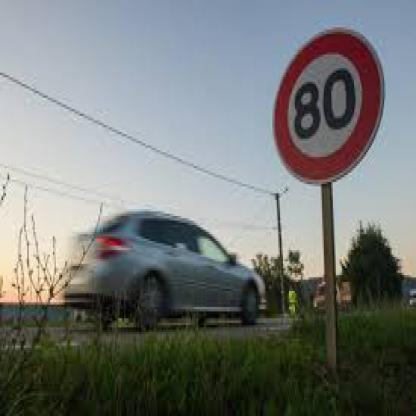Speed Limit 80: (277, 34, 380, 176)
